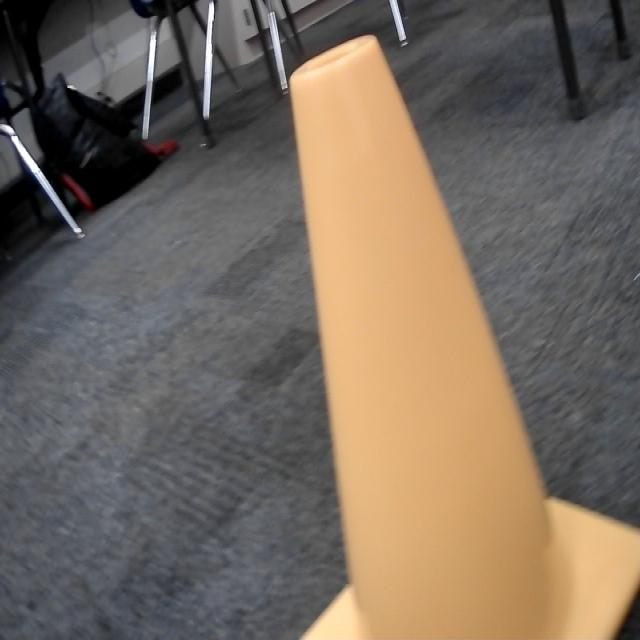cone: (293, 30, 640, 640)
